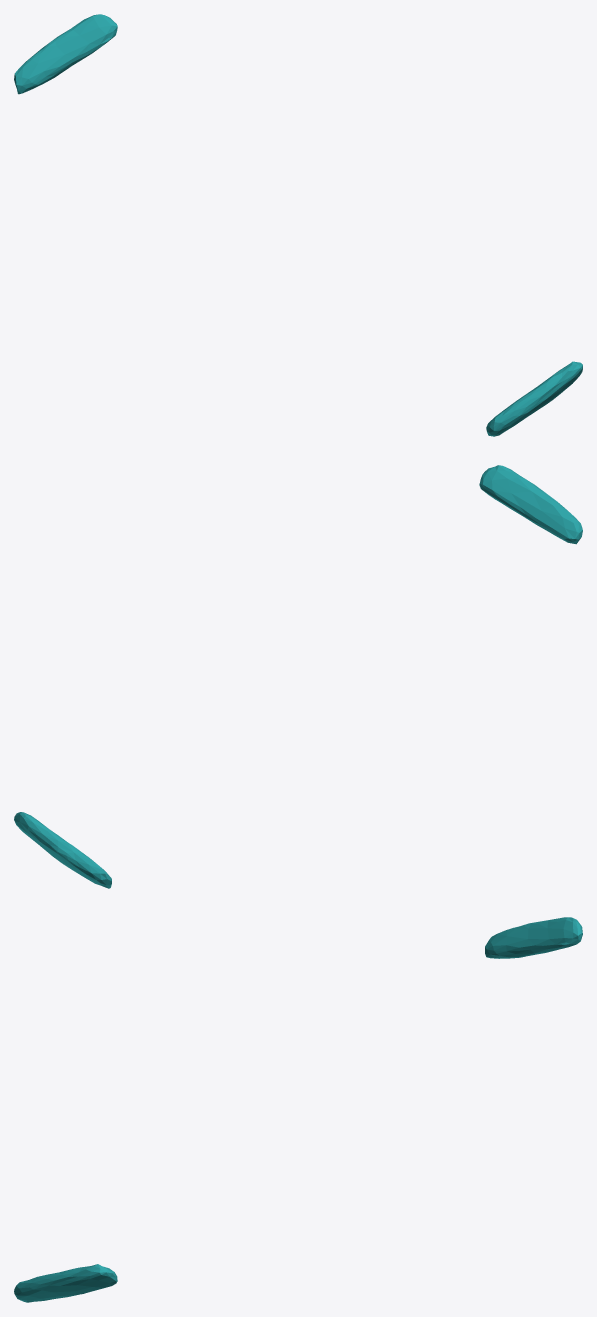
3 renders of one model, top to bottom at view 1: azimuth 30°, elevation 25°; view 2: azimuth 150°, elevation 25°; view 3: azimuth 330°, elevation 25°, orthographic.
Parts seen in each view (by area): view 1: 312782582.obj; view 2: 312782582.obj; view 3: 312782582.obj.
Part boxes in pixels (bbox=[...]): 312782582.obj: bbox=[14, 14, 582, 436]; 312782582.obj: bbox=[14, 465, 582, 888]; 312782582.obj: bbox=[14, 917, 582, 1302].
Bounding box in the file's own units: 974 × 549 × 8346.
